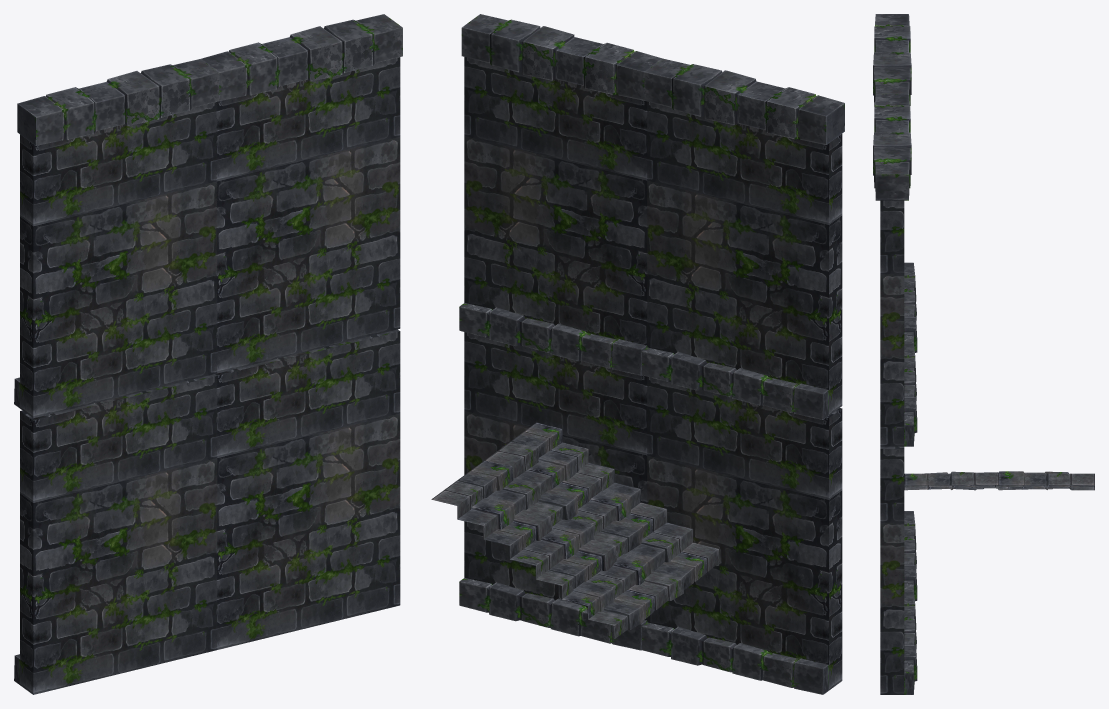
Rendered from BackThrone.gltf.
The picture shows the model from 3 angles, left to right: view 1: azimuth 30°, elevation 25°; view 2: azimuth 150°, elevation 25°; view 3: azimuth 270°, elevation 25°; orthographic projection. The views are drawn at different scales.
Parts seen in each view (by area): view 1: P_MOD_Wall_01_E_straight_large (×4), P_MOD_WallCover_01_E_straight (2) (×2); view 2: P_MOD_Wall_01_E_straight_large (×4), P_MOD_Stairs_01_E_straight_3 (6), P_MOD_WallTrim_01_E_straight (2) (×4), P_MOD_WallCover_01_E_straight (2) (×2); view 3: P_MOD_Wall_01_E_straight_large (×2), P_MOD_WallCover_01_E_straight (2) (×2), P_MOD_WallTrim_01_E_straight (2) (×4), P_MOD_Stairs_01_E_straight_3 (6).
Boxes of the visible parts, x1,y1,x2,y2 form: P_MOD_Wall_01_E_straight_large (×4): (20, 57, 400, 694); P_MOD_WallCover_01_E_straight (2) (×2): (17, 14, 402, 145); P_MOD_Wall_01_E_straight_large (×4): (464, 57, 842, 690); P_MOD_Stairs_01_E_straight_3 (6): (431, 422, 719, 639); P_MOD_WallTrim_01_E_straight (2) (×4): (459, 303, 828, 694); P_MOD_WallCover_01_E_straight (2) (×2): (461, 14, 844, 144); P_MOD_Wall_01_E_straight_large (×2): (880, 200, 904, 694); P_MOD_WallCover_01_E_straight (2) (×2): (873, 14, 911, 200); P_MOD_WallTrim_01_E_straight (2) (×4): (904, 262, 917, 694); P_MOD_Stairs_01_E_straight_3 (6): (904, 471, 1094, 490).
Size of the model in its own units: 7.98 by 12.1 by 4.65.
2 materials, 2 textured.
